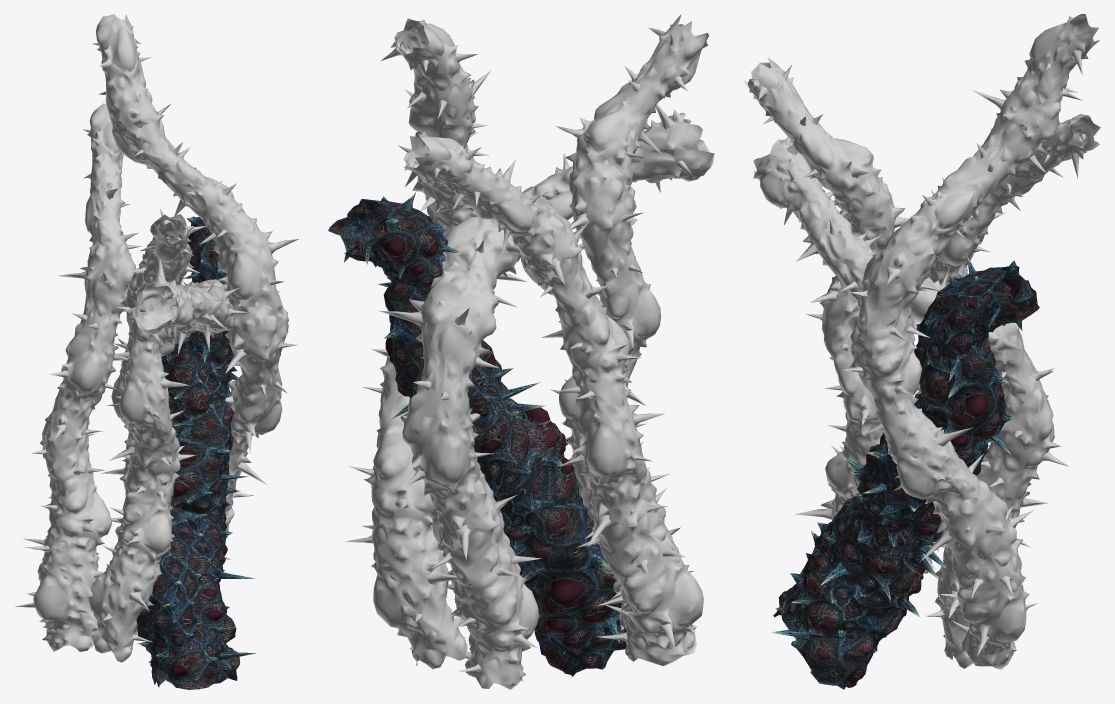
The model's file is backup.fbx.
3 views of the same model, side by side, from view 1: azimuth 30°, elevation 25°; view 2: azimuth 150°, elevation 25°; view 3: azimuth 270°, elevation 25° (orthographic). The views are drawn at different scales.
Parts seen in each view (by area): view 1: LODGroup_1_MainMesh_1_SubMesh_1, LODGroup_1_MainMesh_1_SubMesh_3, LODGroup_1_MainMesh_1_SubMesh_2; view 2: LODGroup_1_MainMesh_1_SubMesh_1, LODGroup_1_MainMesh_1_SubMesh_2, LODGroup_1_MainMesh_1_SubMesh_3; view 3: LODGroup_1_MainMesh_1_SubMesh_1, LODGroup_1_MainMesh_1_SubMesh_2, LODGroup_1_MainMesh_1_SubMesh_3.
Part boxes in pixels (x1,y1,x2,y2): LODGroup_1_MainMesh_1_SubMesh_1: [15, 14, 298, 662]; LODGroup_1_MainMesh_1_SubMesh_3: [136, 216, 240, 684]; LODGroup_1_MainMesh_1_SubMesh_2: [146, 233, 255, 689]; LODGroup_1_MainMesh_1_SubMesh_1: [345, 14, 714, 689]; LODGroup_1_MainMesh_1_SubMesh_2: [340, 192, 619, 676]; LODGroup_1_MainMesh_1_SubMesh_3: [328, 196, 626, 650]; LODGroup_1_MainMesh_1_SubMesh_1: [743, 14, 1100, 669]; LODGroup_1_MainMesh_1_SubMesh_2: [770, 256, 1039, 689]; LODGroup_1_MainMesh_1_SubMesh_3: [773, 260, 1024, 655].
Size of the model in its own units: 844 by 1879 by 899.
